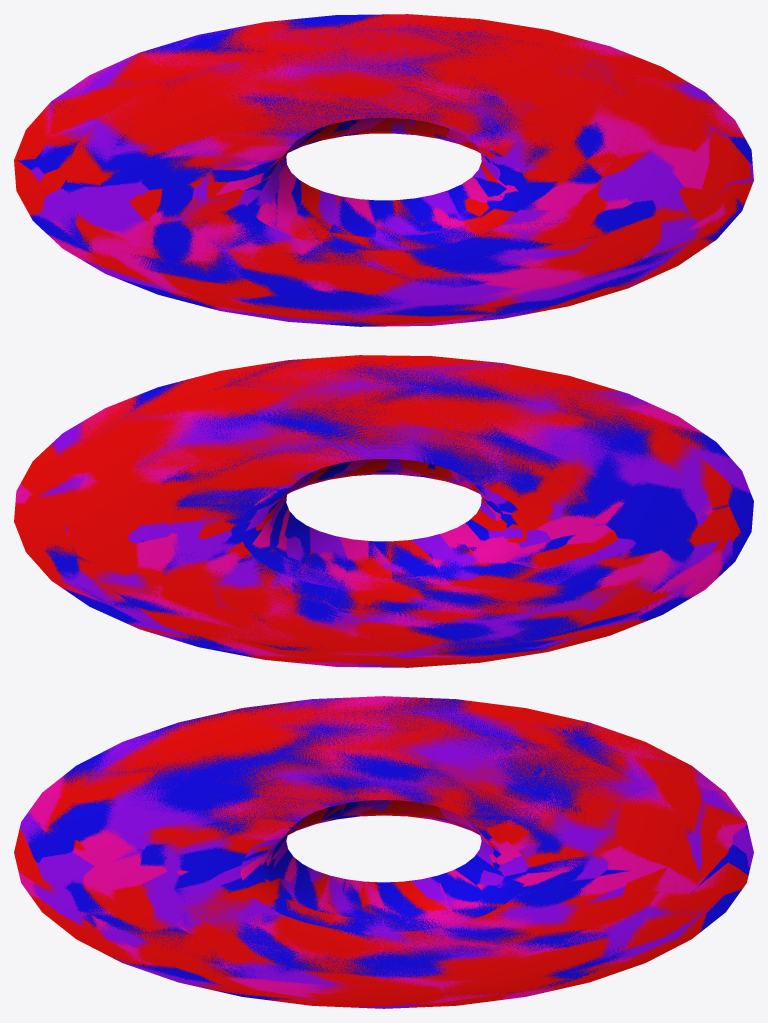
File: p_mesh_plasmadrill_diameter_glow02_pose2.fbx
3 renders of one model, top to bottom at view 1: azimuth 30°, elevation 25°; view 2: azimuth 150°, elevation 25°; view 3: azimuth 270°, elevation 25°, orthographic.
Parts seen in each view (by area): view 1: plasmadrill_diameter_glow02_pose2.003; view 2: plasmadrill_diameter_glow02_pose2.003; view 3: plasmadrill_diameter_glow02_pose2.003.
Boxes of the visible parts, x1,y1,x2,y2 form: plasmadrill_diameter_glow02_pose2.003: [14, 14, 753, 326]; plasmadrill_diameter_glow02_pose2.003: [14, 355, 753, 667]; plasmadrill_diameter_glow02_pose2.003: [14, 696, 753, 1008].
Size of the model in its own units: 20.24 by 0.9272 by 20.24.
